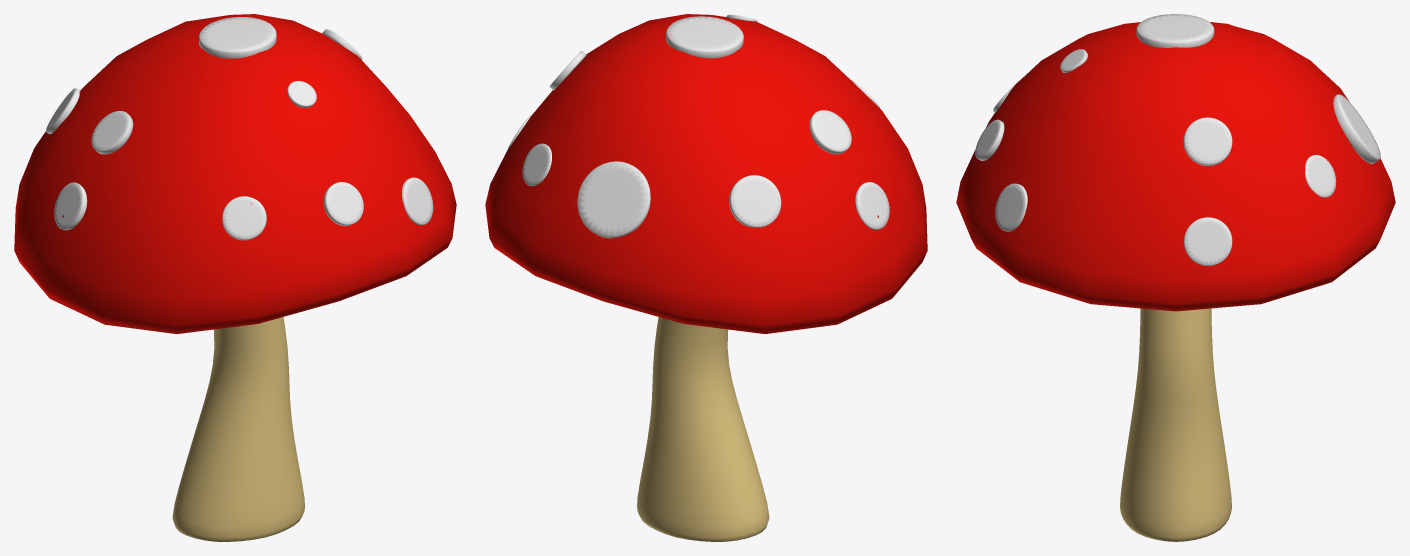
The model's file is mushrooms.fbx.
3 views of the same model, side by side, from view 1: azimuth 30°, elevation 25°; view 2: azimuth 150°, elevation 25°; view 3: azimuth 270°, elevation 25° (orthographic).
Visible parts, largest first — view 1: Cube.001, Mushroom2.0, Circle, Circle.008, Circle.009, Circle.001, Circle.002, Circle.003, Circle.010, Circle.011; view 2: Cube.001, Mushroom2.0, Circle.006, Circle, Circle.011, Circle.001, Circle.002, Circle.007; view 3: Cube.001, Mushroom2.0, Circle, Circle.005, Circle.004, Circle.006, Circle.003, Circle.007, Circle.009.
Boxes of the visible parts, bbox=[...] form: Cube.001: bbox=[14, 14, 456, 333]; Mushroom2.0: bbox=[172, 317, 304, 541]; Circle: bbox=[198, 17, 276, 58]; Circle.008: bbox=[222, 196, 266, 240]; Circle.009: bbox=[323, 182, 363, 226]; Circle.001: bbox=[91, 111, 133, 154]; Circle.002: bbox=[54, 182, 87, 230]; Circle.003: bbox=[402, 177, 433, 225]; Circle.010: bbox=[287, 81, 316, 107]; Circle.011: bbox=[46, 88, 80, 134]; Cube.001: bbox=[485, 14, 927, 333]; Mushroom2.0: bbox=[637, 317, 769, 541]; Circle.006: bbox=[577, 161, 650, 238]; Circle: bbox=[666, 16, 743, 58]; Circle.011: bbox=[729, 175, 781, 227]; Circle.001: bbox=[809, 110, 851, 154]; Circle.002: bbox=[855, 182, 889, 229]; Circle.007: bbox=[522, 143, 551, 186]; Cube.001: bbox=[956, 22, 1395, 311]; Mushroom2.0: bbox=[1120, 308, 1231, 541]; Circle: bbox=[1136, 14, 1214, 47]; Circle.005: bbox=[1183, 117, 1232, 165]; Circle.004: bbox=[1184, 217, 1232, 265]; Circle.006: bbox=[1333, 94, 1380, 164]; Circle.003: bbox=[995, 183, 1027, 231]; Circle.007: bbox=[1305, 155, 1336, 197]; Circle.009: bbox=[975, 119, 1004, 160].
Bounding box in the file's own units: 1123 × 1376 × 1120.
